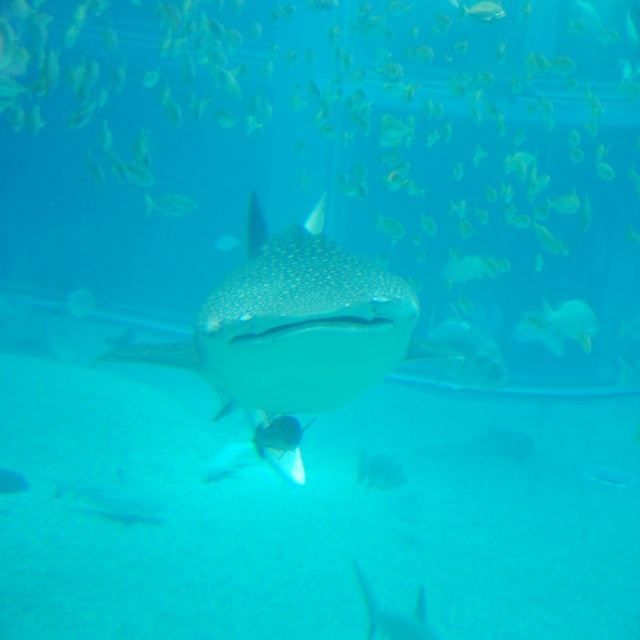Shark: (102, 164, 502, 515)
